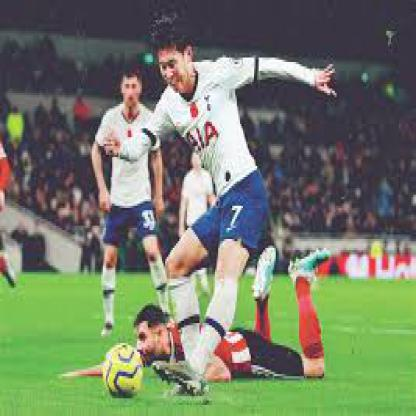Fall_Down: (52, 241, 328, 400)
